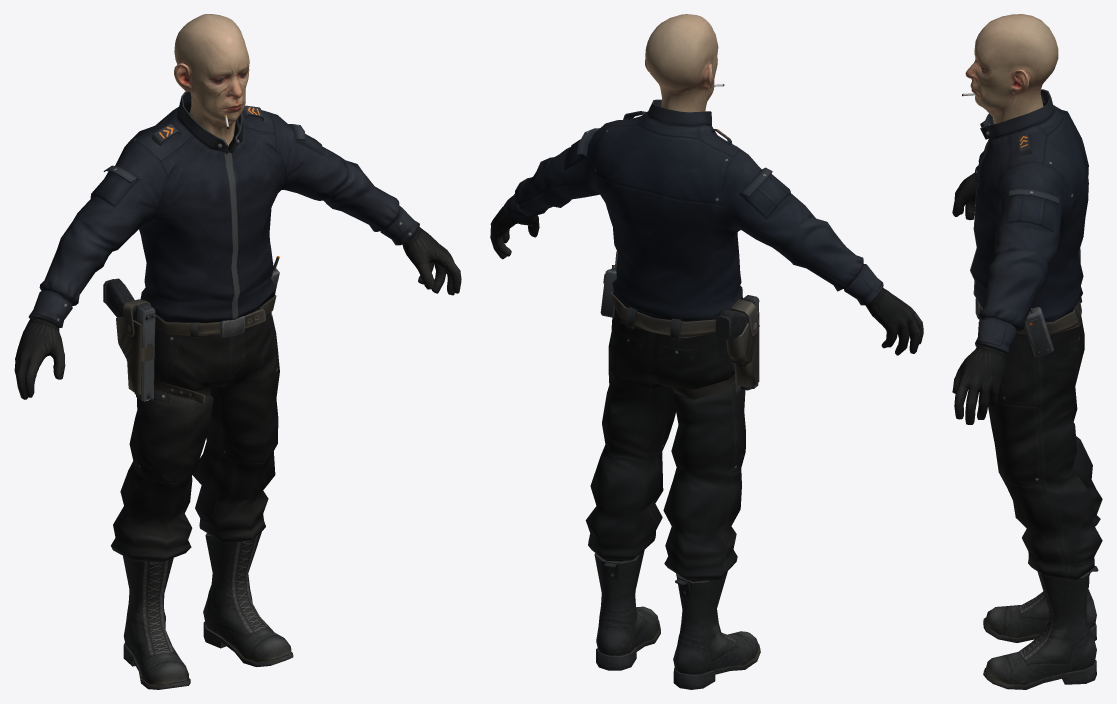
The model's file is Char.fbx.
3 renders of one model, left to right at view 1: azimuth 30°, elevation 25°; view 2: azimuth 150°, elevation 25°; view 3: azimuth 270°, elevation 25°, orthographic. The views are drawn at different scales.
Parts seen in each view (by area): view 1: body_1, boots, face1, slide, pistol; view 2: body_1, boots, face1; view 3: body_1, boots, face1.
Boxes of the visible parts, x1,y1,x2,y2 form: body_1: (14,91,461,562); boots: (123,531,293,689); face1: (174,14,249,146); slide: (136,304,156,400); pistol: (106,278,152,401); body_1: (490,99,923,581); boots: (594,550,760,689); face1: (645,14,718,112); body_1: (952,89,1102,579); boots: (983,531,1098,689); face1: (965,14,1058,123).
Size of the model in its own units: 138 by 195 by 41.49.
